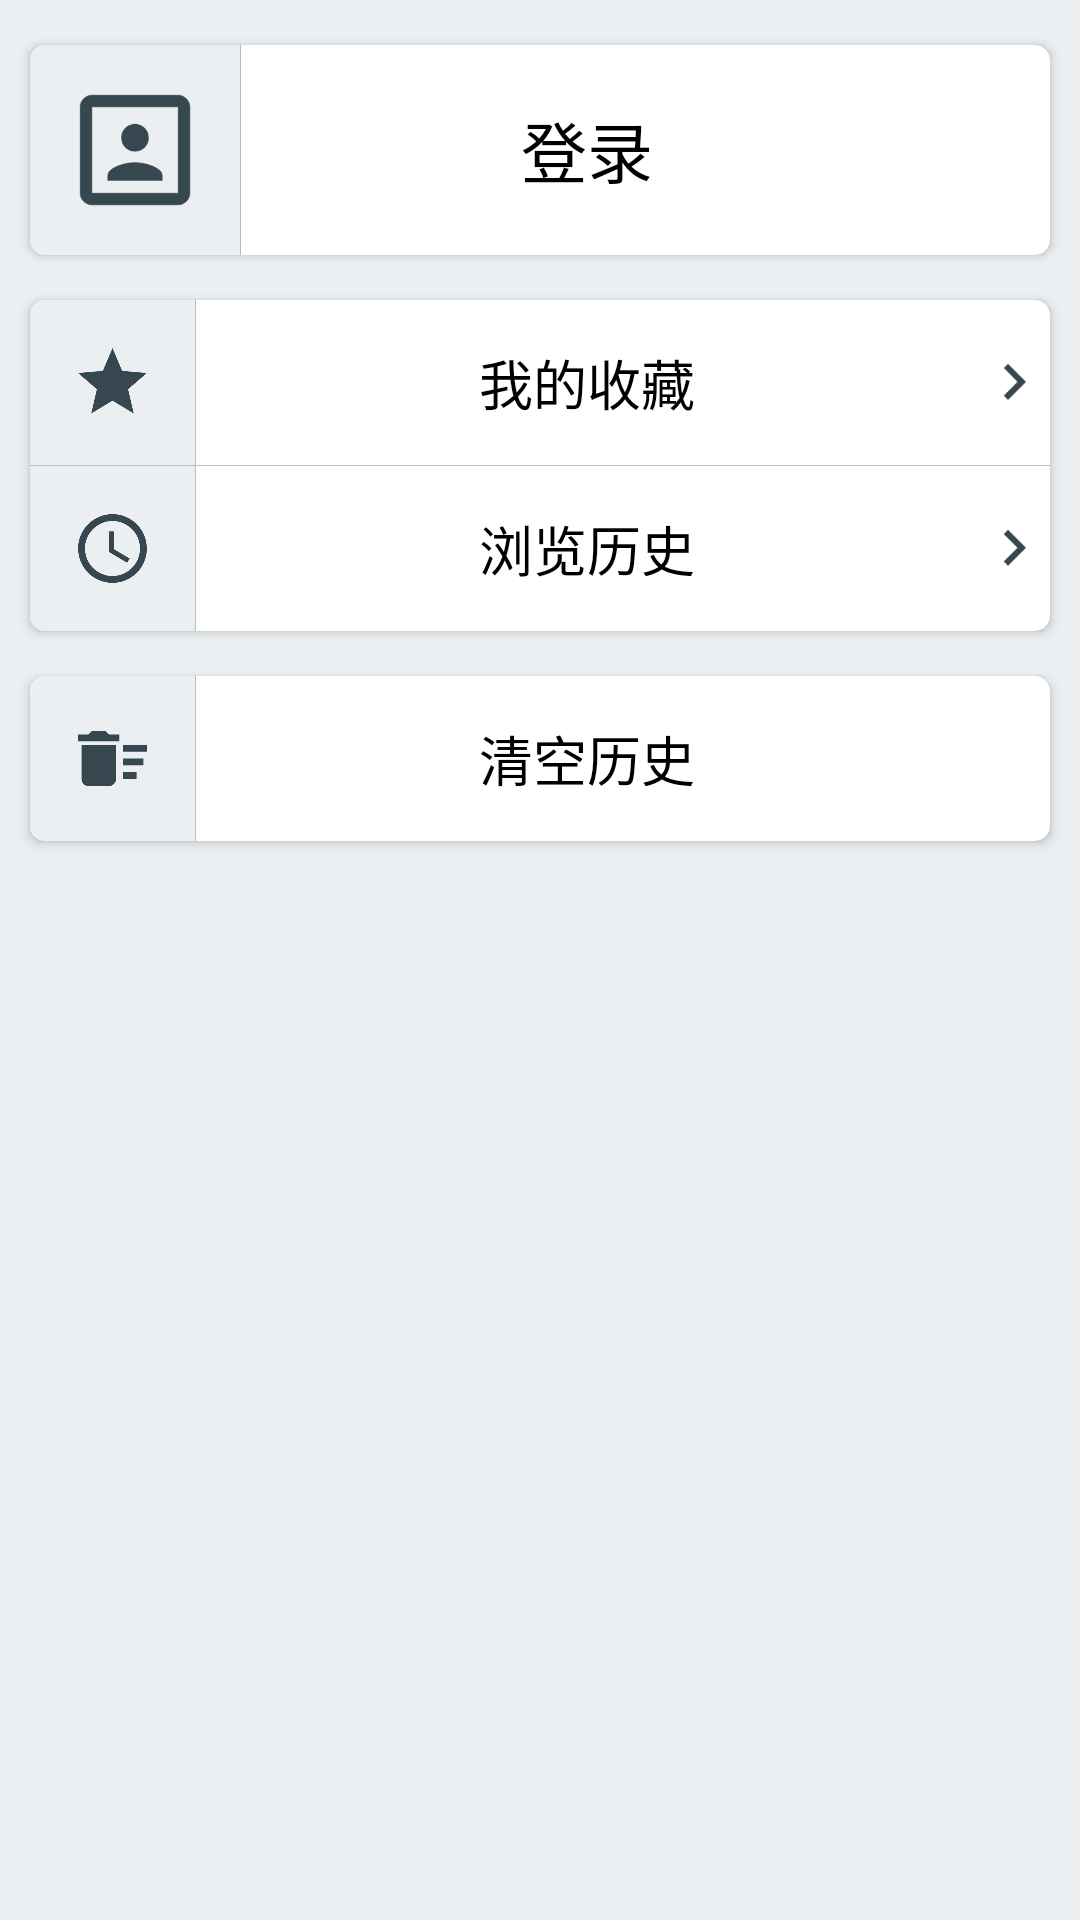

Icon click points for this 1080px×1920px phone screenshot, format (x=x, y=y):
keyboard arrow right: (x=1015, y=382), (x=1014, y=548)
